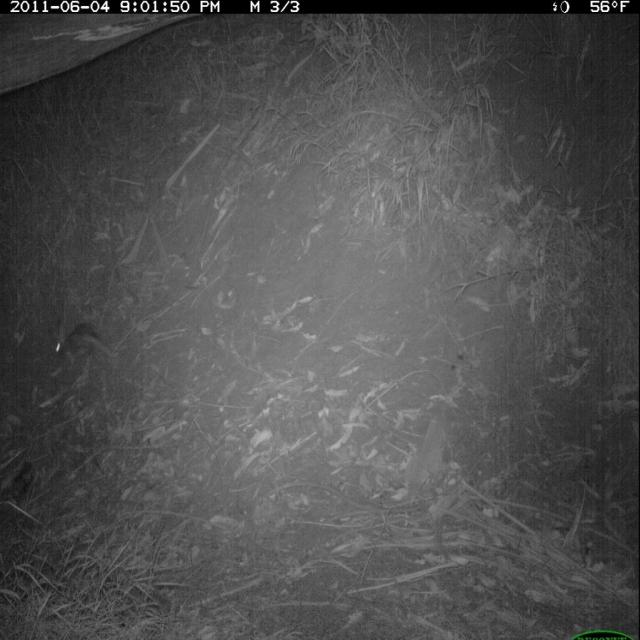rabbit: (47, 309, 111, 382)
